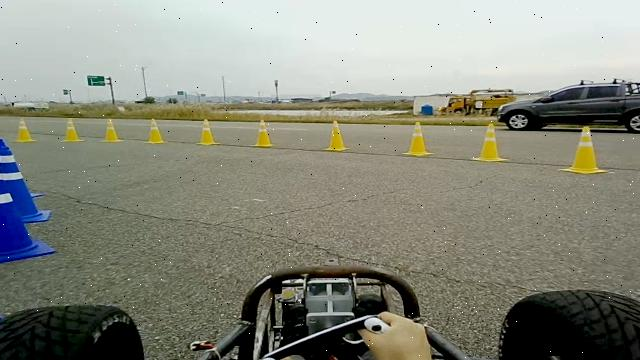blue cone: (0, 138, 56, 264), (0, 158, 51, 222), (0, 138, 44, 198)
yellow cone: (557, 125, 608, 174), (470, 122, 508, 162), (401, 121, 434, 156), (322, 120, 350, 152), (249, 118, 277, 148), (11, 117, 37, 143), (144, 118, 167, 144), (196, 118, 218, 145), (99, 118, 123, 142), (60, 118, 84, 142)
